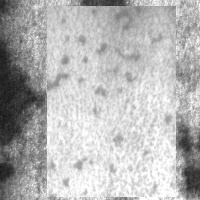patches: (62, 1, 144, 189), (1, 42, 41, 146)
pitted_surface: (47, 6, 176, 197)
